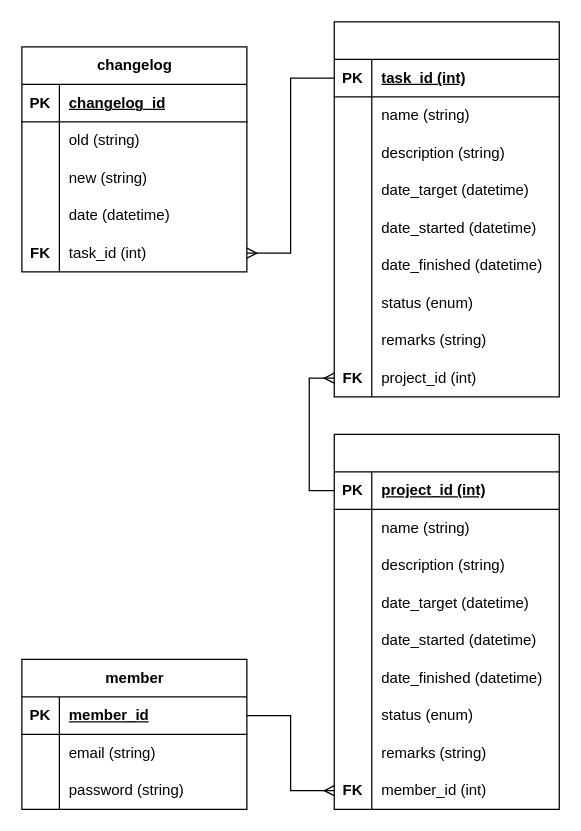
Some shapes in this 581 by 831 pixel diagram are drawn without their labels. Each missing label, with the box of its shape:
projects: (333, 433, 559, 809)
tasks: (333, 21, 559, 397)
